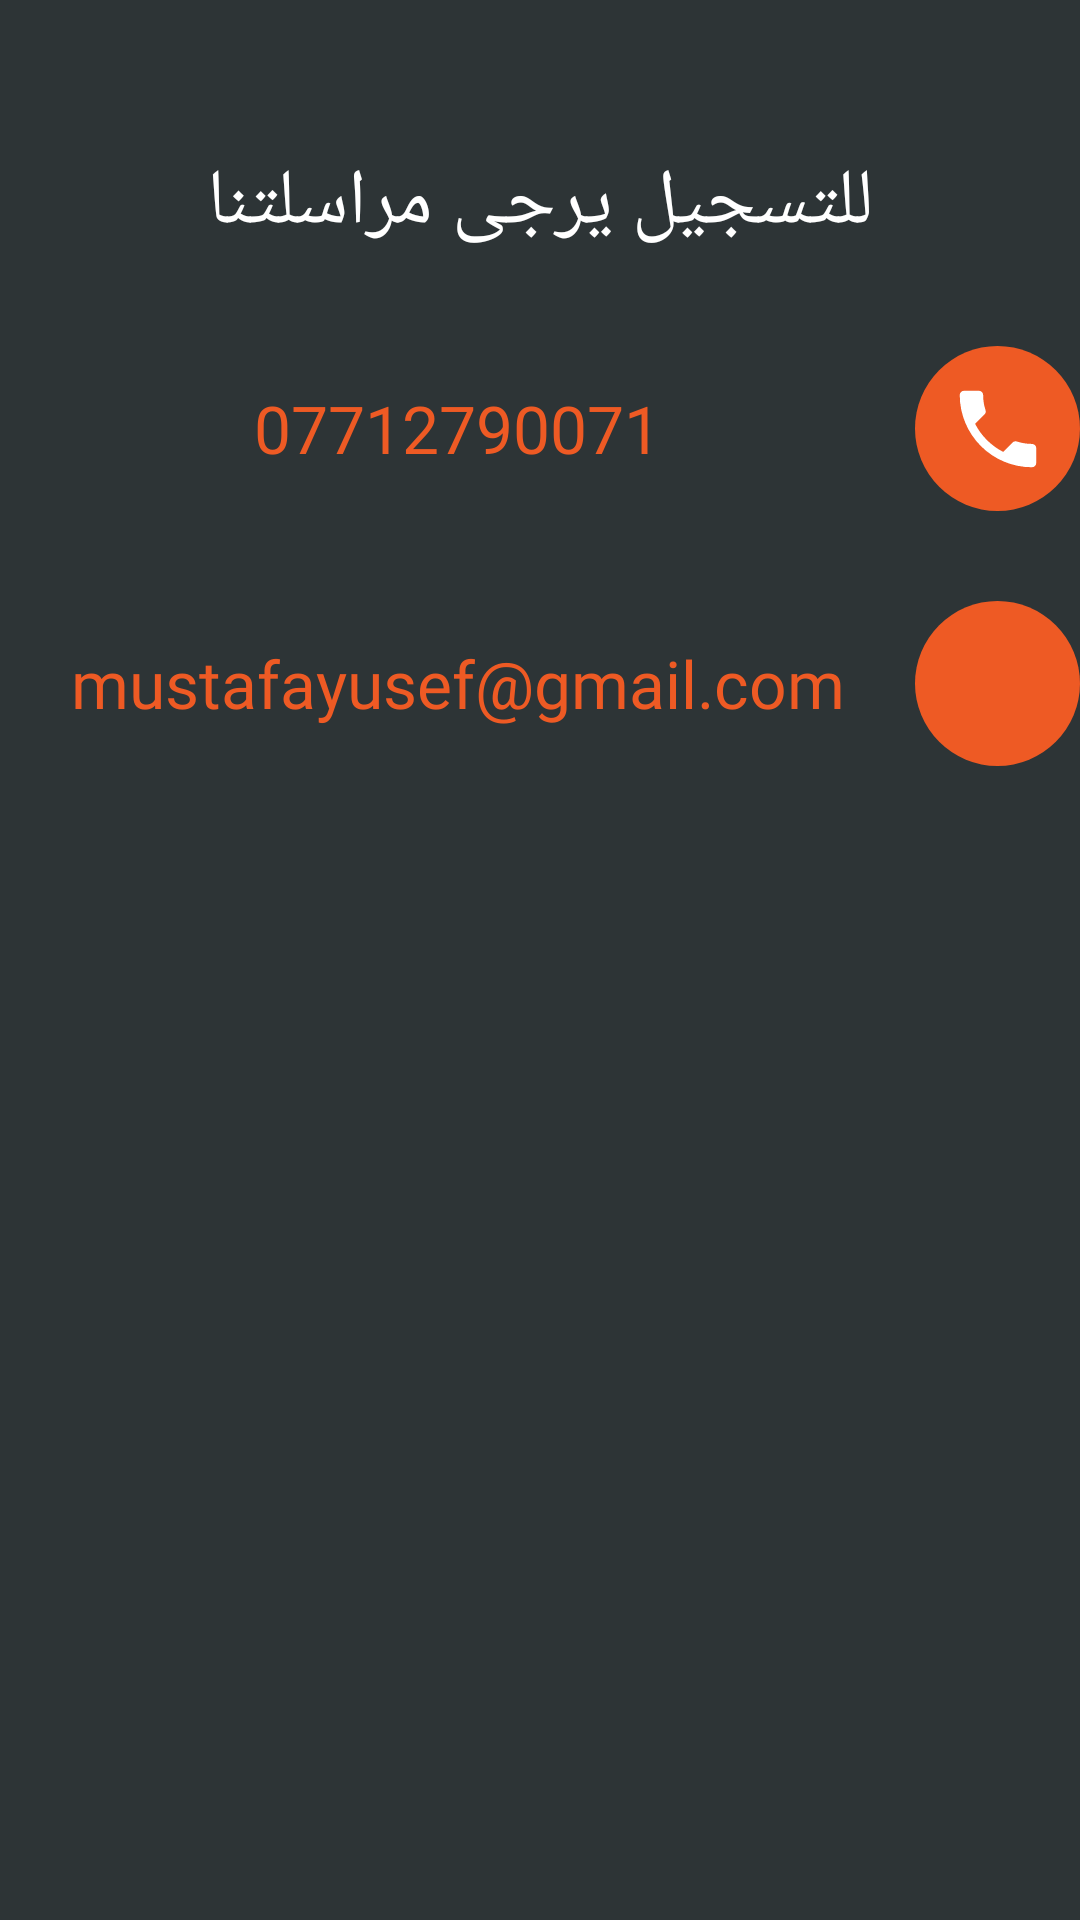

Named icons in this screenshot (1080w x 1920h) and their bounding boxes, (x1, y1, x2, y2):
call: (915, 346, 1080, 511)
